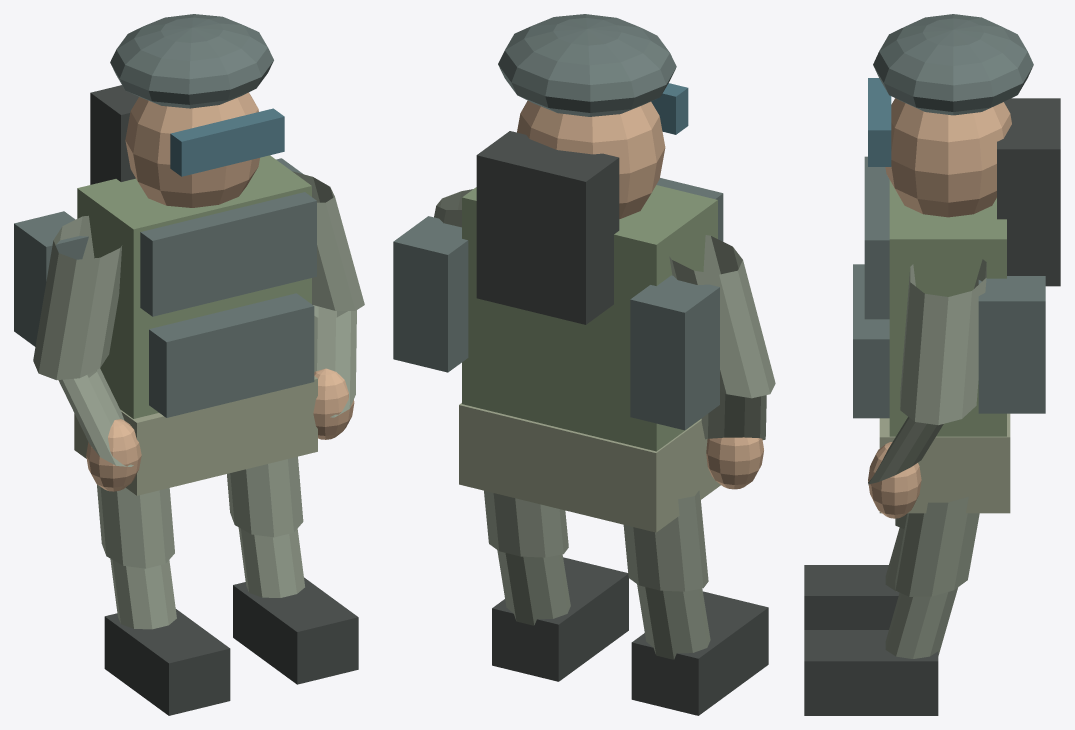
The model's file is character-scout.gltf.
3 views of the same model, side by side, from view 1: azimuth 30°, elevation 25°; view 2: azimuth 150°, elevation 25°; view 3: azimuth 270°, elevation 25° (orthographic). The views are drawn at different scales.
Visible parts, largest first — view 1: armor, uniform, tire, body, body2, skin2, glass; view 2: tire, armor, body, uniform, body2, skin2, glass; view 3: armor, tire, uniform, skin2, body, body2, glass.
Part boxes in pixels (x1,y1,x2,y2): armor: (14,14,316,417); uniform: (33,171,364,629); tire: (90,85,358,715); body: (77,155,311,418); body2: (74,376,317,495); skin2: (86,92,354,491); glass: (170,108,284,176); tire: (476,131,768,715); armor: (393,14,723,430); body: (462,185,717,451); uniform: (434,189,775,659); body2: (459,403,720,532); skin2: (517,101,763,489); glass: (651,83,688,134); armor: (853,14,1045,418); tire: (804,98,1060,715); uniform: (868,259,986,658); skin2: (868,98,1011,518); body: (889,180,1006,436); body2: (879,413,1010,513); glass: (868,78,891,166).
Bounding box in the file's own units: 1.15 × 2.1 × 0.765.
